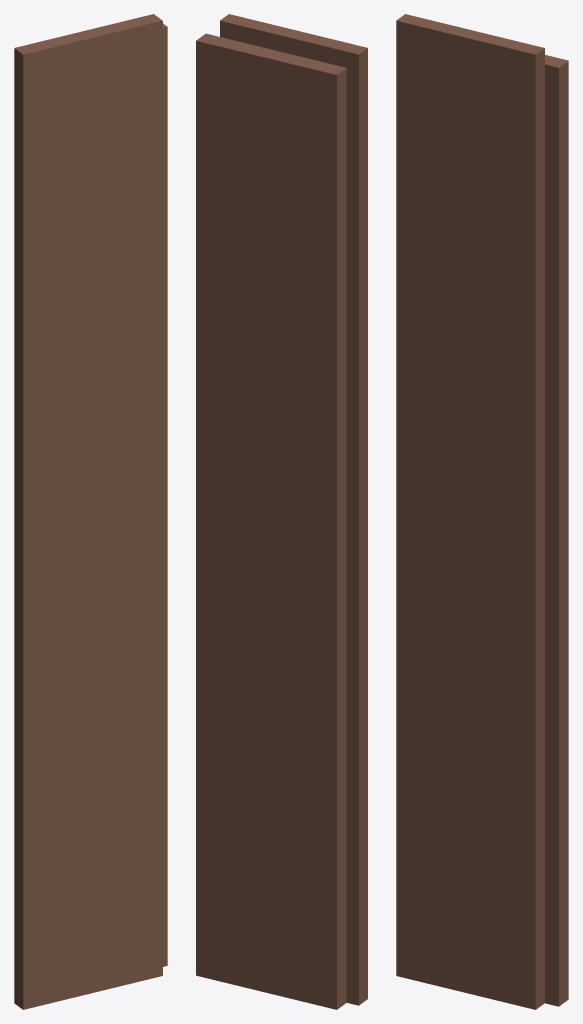
The model's file is lib_door_half.fbx.
The picture shows the model from 3 angles, left to right: view 1: azimuth 30°, elevation 25°; view 2: azimuth 150°, elevation 25°; view 3: azimuth 330°, elevation 25°; orthographic projection.
Parts seen in each view (by area): view 1: pCube195; view 2: pCube195; view 3: pCube195.
Boxes of the visible parts, box(x1,y1,x2,y2) form: pCube195: box(14, 14, 167, 1009); pCube195: box(196, 14, 367, 1009); pCube195: box(396, 14, 568, 1009).
Bounding box in the file's own units: 35.59 × 212 × 7.63.
